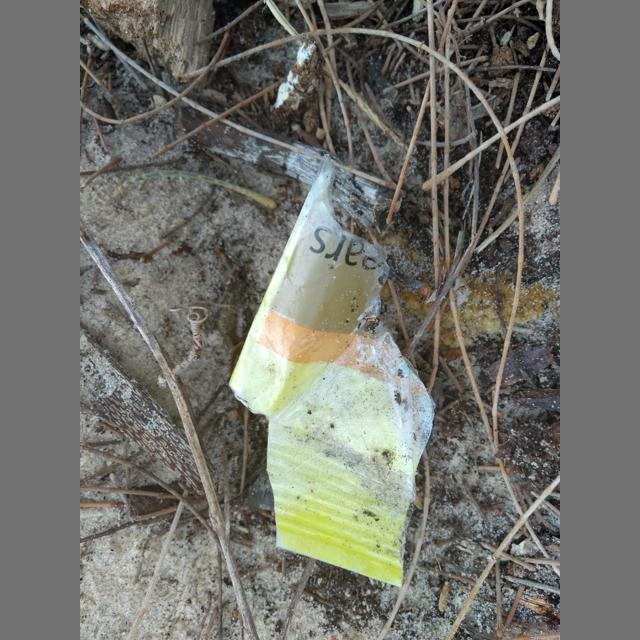litter: (229, 154, 432, 587)
